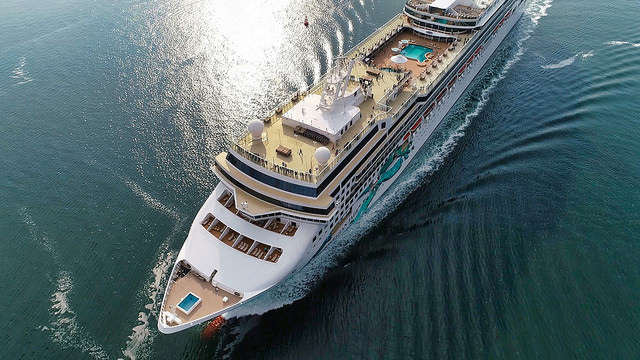cruise_ship: (156, 3, 532, 331)
